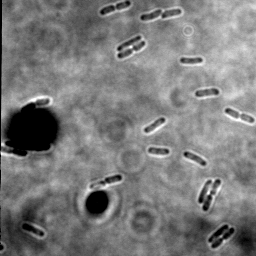Dividing: (202, 178, 223, 212), (19, 95, 52, 114), (116, 40, 147, 60), (210, 227, 236, 250), (89, 173, 124, 190), (224, 107, 255, 124), (99, 1, 133, 16)
Rod: (116, 33, 143, 53), (20, 220, 47, 239), (143, 116, 168, 134), (182, 150, 208, 167), (139, 8, 164, 23), (147, 145, 171, 157), (194, 87, 220, 98), (161, 7, 183, 19), (179, 56, 205, 66)
